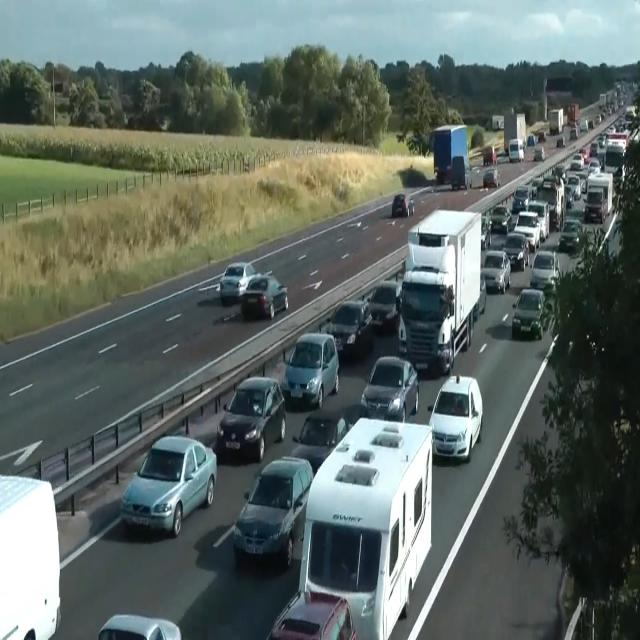bus: (120, 435, 217, 537), (233, 455, 313, 568), (216, 376, 286, 462), (428, 374, 482, 462), (280, 331, 340, 409), (267, 588, 357, 639), (291, 410, 351, 476), (360, 356, 419, 422), (326, 298, 374, 356), (98, 613, 182, 639), (240, 274, 288, 319), (366, 280, 402, 332), (512, 287, 546, 341), (218, 262, 256, 302), (598, 210, 624, 268), (530, 249, 560, 292), (513, 210, 541, 252), (502, 232, 529, 270), (526, 199, 550, 241), (558, 218, 584, 252), (583, 189, 605, 223), (489, 204, 511, 234), (392, 193, 414, 217), (512, 186, 530, 213), (566, 173, 582, 200), (481, 213, 491, 250), (482, 168, 500, 188), (478, 270, 486, 314), (482, 146, 496, 165), (564, 185, 574, 209), (570, 153, 584, 170), (587, 158, 601, 175), (533, 146, 545, 162), (527, 133, 535, 147), (537, 131, 546, 142), (570, 128, 578, 140), (557, 137, 565, 147)
jeep: (299, 415, 433, 638), (481, 248, 511, 293)
minibus: (397, 208, 483, 374), (0, 473, 62, 639), (429, 124, 471, 190), (531, 174, 566, 231), (583, 172, 613, 224), (544, 76, 572, 121), (504, 112, 526, 154), (548, 108, 564, 134), (508, 138, 524, 162), (567, 102, 579, 126), (492, 114, 504, 130)
